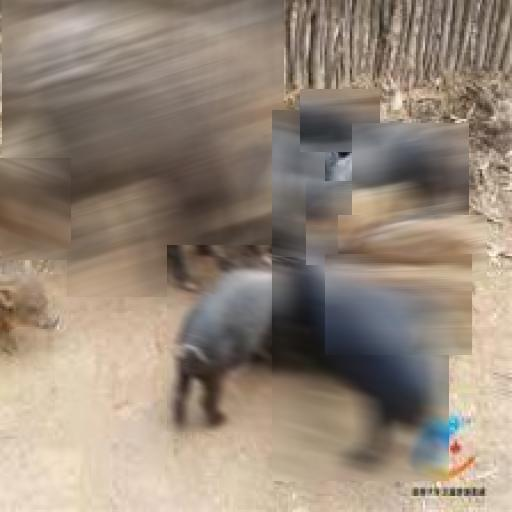Pig: (2, 0, 284, 297), (272, 217, 449, 481), (167, 245, 303, 432), (325, 254, 472, 355), (352, 123, 469, 215), (338, 215, 487, 281), (306, 181, 410, 265), (272, 110, 325, 257), (0, 158, 71, 249), (0, 260, 67, 352), (300, 89, 380, 152)
